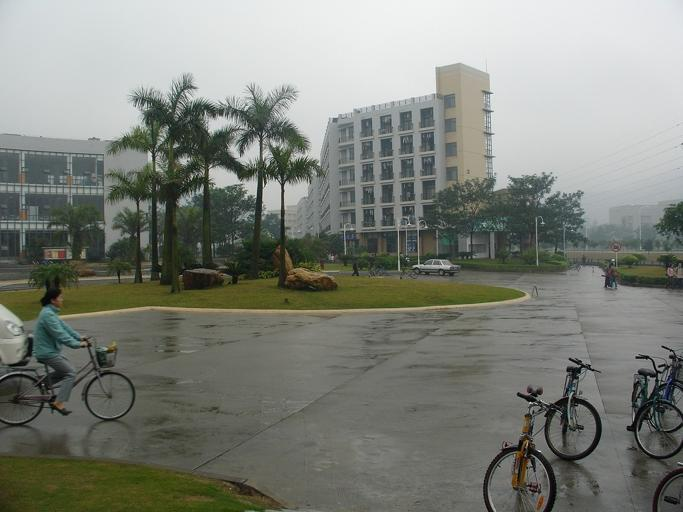non-vehicle: (0, 334, 137, 425), (481, 381, 557, 511), (541, 356, 603, 461), (627, 351, 682, 460), (645, 342, 682, 433), (651, 461, 682, 512), (399, 265, 419, 279)
